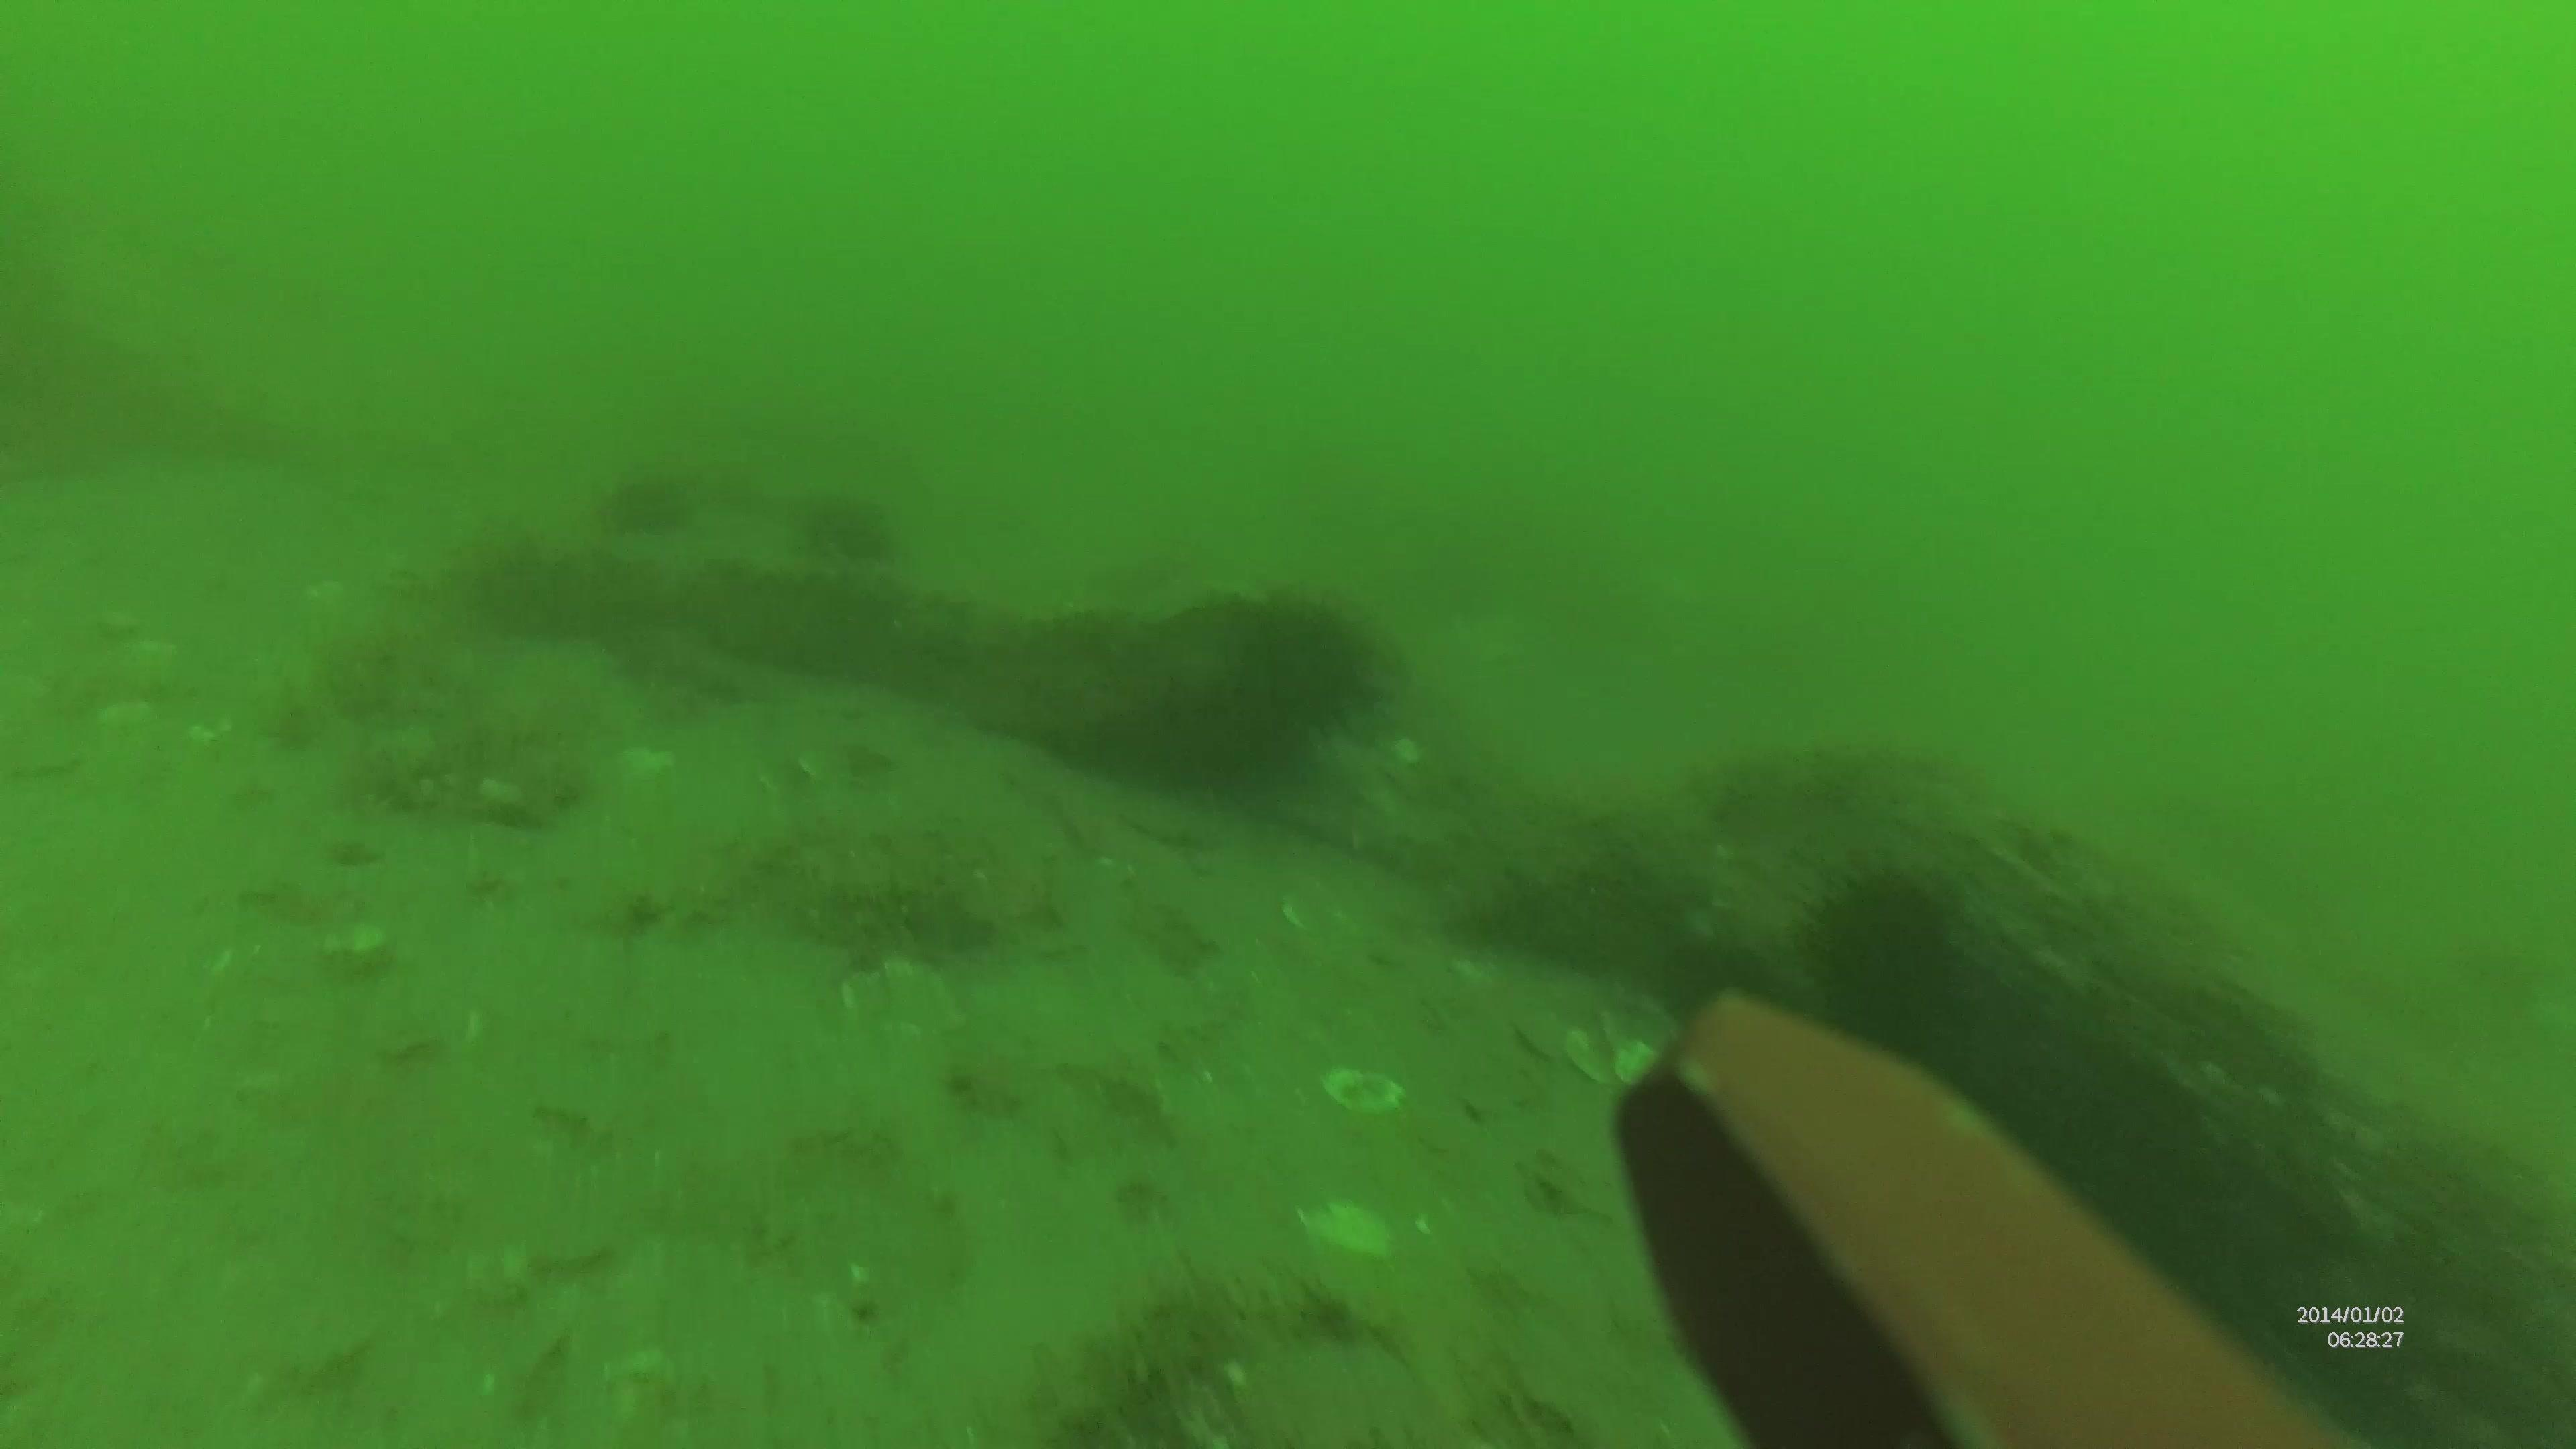echinus: (1194, 579, 1376, 718), (1801, 858, 1951, 1023)
